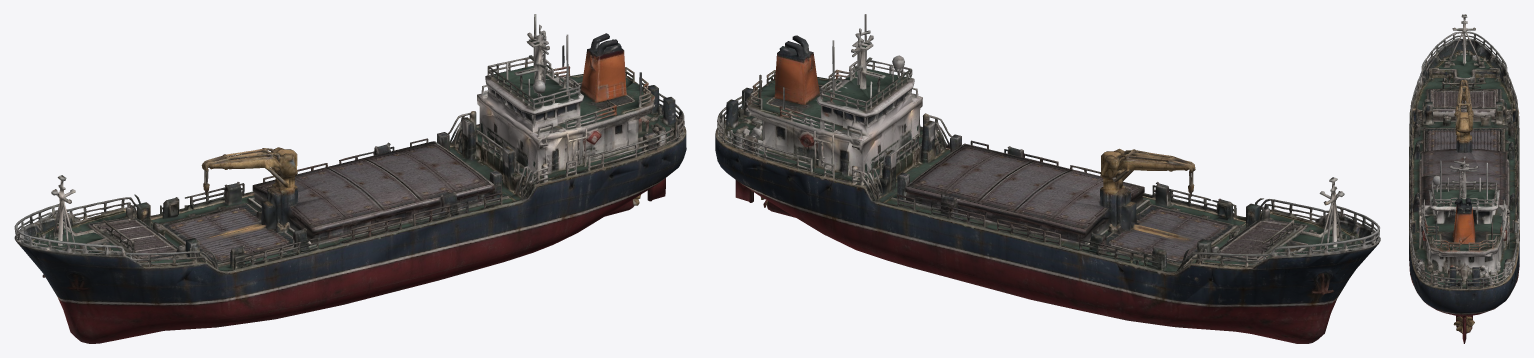
File: barco.glb
The picture shows the model from 3 angles, left to right: view 1: azimuth 30°, elevation 25°; view 2: azimuth 150°, elevation 25°; view 3: azimuth 270°, elevation 25°; orthographic projection. The views are drawn at different scales.
Size of the model in its own units: 34 by 10.4 by 6.97.
1 material, 1 textured.
